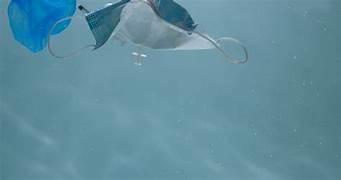Mask: (79, 0, 247, 62), (8, 0, 75, 51)
